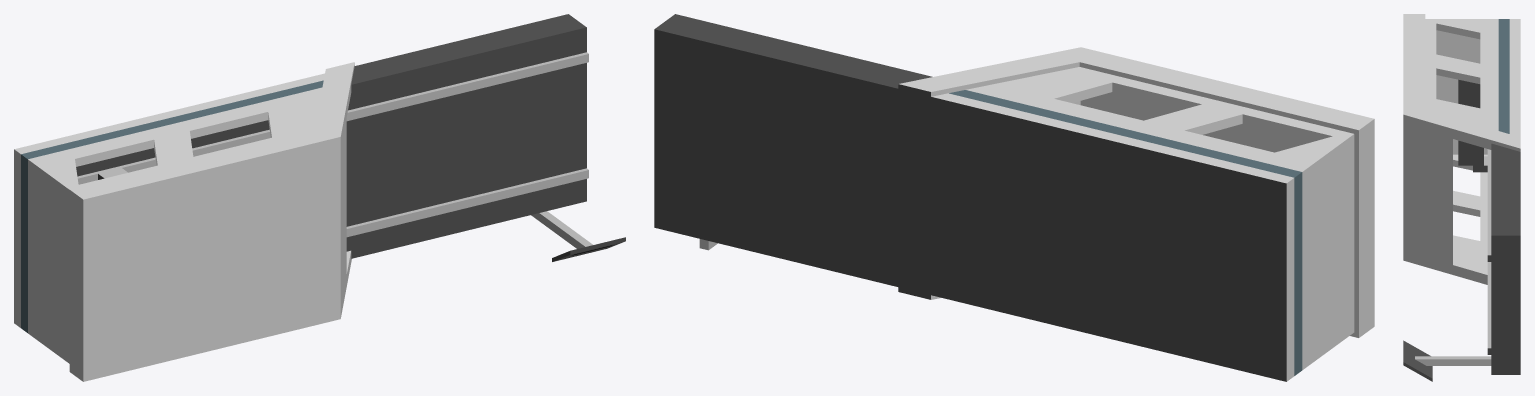
File: cnc_cutting_machine_3_state_1.dae
3 renders of one model, left to right at view 1: azimuth 30°, elevation 25°; view 2: azimuth 150°, elevation 25°; view 3: azimuth 270°, elevation 25°, orthographic. The views are drawn at different scales.
Visible parts, largest first — view 1: coords_ME_ID11_MA_material_8, coords_ME_ID3_MA_material, coords_ME_ID51_MA_material_11, coords_ME_ID89_MA_material_16, coords_ME_ID31_MA_material_11, coords_ME_ID83_MA_material_11, coords_ME_ID63_MA_material_8, coords_ME_ID19_MA_material_8, coords_ME_ID57_MA_material; view 2: coords_ME_ID3_MA_material, coords_ME_ID11_MA_material_8, coords_ME_ID89_MA_material_16, coords_ME_ID63_MA_material_8, coords_ME_ID19_MA_material_8; view 3: coords_ME_ID11_MA_material_8, coords_ME_ID3_MA_material, coords_ME_ID89_MA_material_16, coords_ME_ID69_MA_material, coords_ME_ID83_MA_material_11, coords_ME_ID57_MA_material, coords_ME_ID51_MA_material_11, coords_ME_ID31_MA_material_11, coords_ME_ID63_MA_material_8, coords_ME_ID19_MA_material_8, coords_ME_ID39_MA_material_8.
Part boxes in pixels (box(x1,y1,x2,y2)): coords_ME_ID11_MA_material_8: box(14, 62, 354, 381); coords_ME_ID3_MA_material: box(76, 14, 586, 258); coords_ME_ID51_MA_material_11: box(77, 52, 588, 184); coords_ME_ID89_MA_material_16: box(21, 80, 323, 332); coords_ME_ID31_MA_material_11: box(346, 168, 588, 237); coords_ME_ID83_MA_material_11: box(531, 211, 592, 248); coords_ME_ID63_MA_material_8: box(75, 139, 157, 166); coords_ME_ID19_MA_material_8: box(190, 112, 271, 138); coords_ME_ID57_MA_material: box(552, 237, 625, 261); coords_ME_ID3_MA_material: box(654, 14, 1286, 381); coords_ME_ID11_MA_material_8: box(899, 47, 1374, 381); coords_ME_ID89_MA_material_16: box(949, 90, 1302, 375); coords_ME_ID63_MA_material_8: box(1185, 114, 1332, 141); coords_ME_ID19_MA_material_8: box(1054, 82, 1201, 109); coords_ME_ID11_MA_material_8: box(1403, 14, 1520, 284); coords_ME_ID3_MA_material: box(1487, 143, 1520, 374); coords_ME_ID89_MA_material_16: box(1498, 19, 1509, 133); coords_ME_ID69_MA_material: box(1458, 79, 1487, 172); coords_ME_ID83_MA_material_11: box(1415, 356, 1491, 365); coords_ME_ID57_MA_material: box(1403, 340, 1432, 381); coords_ME_ID51_MA_material_11: box(1487, 149, 1491, 255); coords_ME_ID31_MA_material_11: box(1484, 156, 1491, 348); coords_ME_ID63_MA_material_8: box(1436, 23, 1480, 39); coords_ME_ID19_MA_material_8: box(1436, 68, 1480, 83); coords_ME_ID39_MA_material_8: box(1453, 204, 1480, 216).
Bounding box in the file's own units: 77.72 × 25.91 × 17.64.
